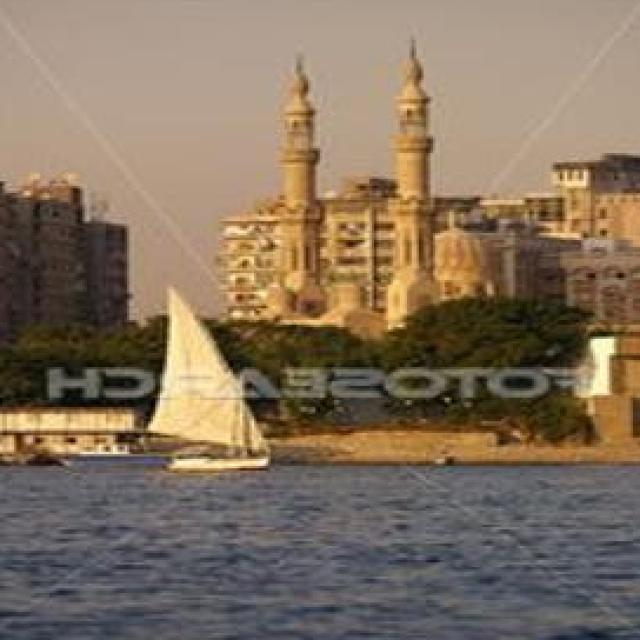sailboat: (144, 280, 278, 474)
